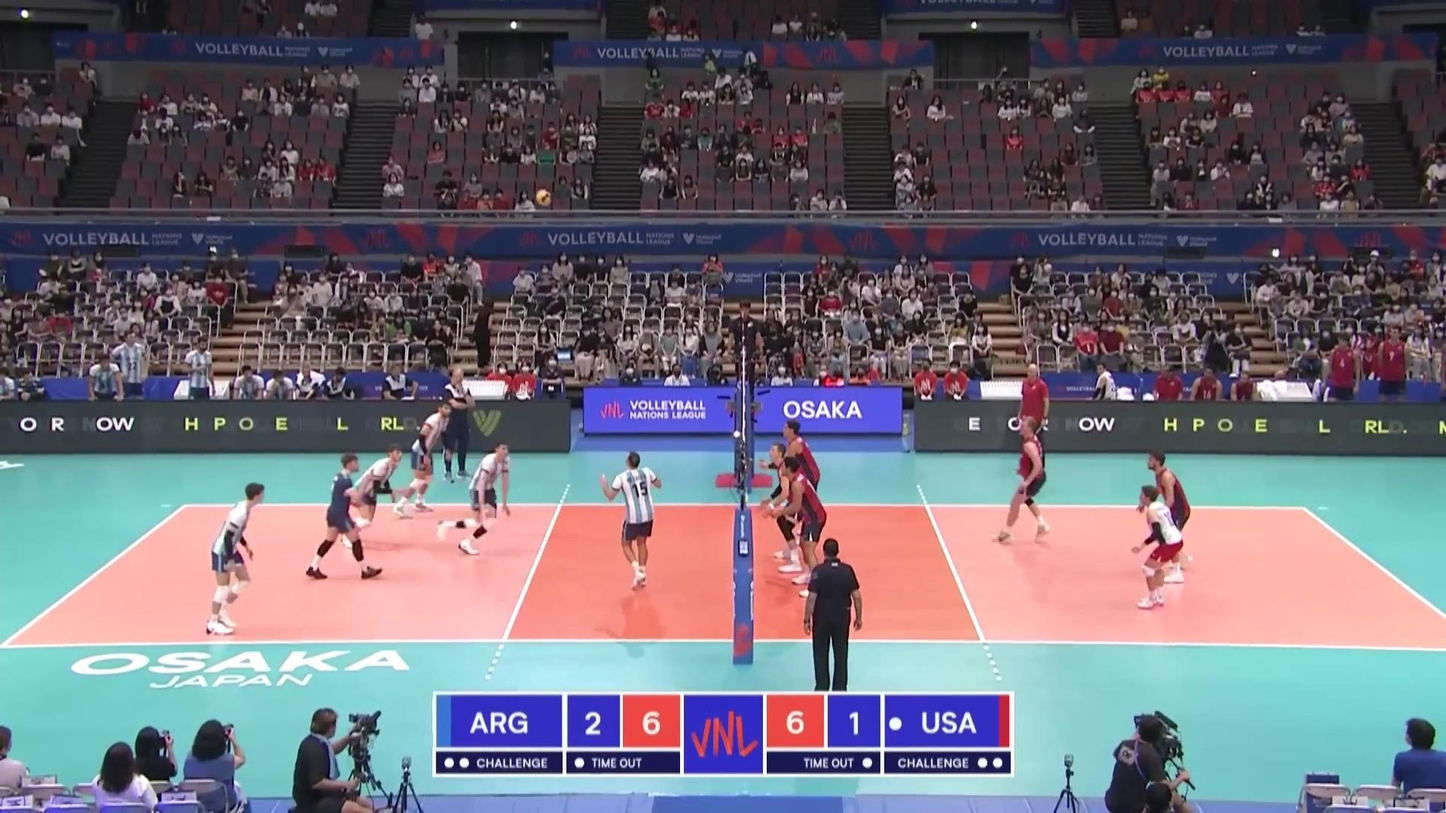player: (307, 455, 381, 579), (207, 483, 263, 637), (437, 441, 510, 556), (605, 453, 660, 591), (995, 417, 1054, 542), (1141, 450, 1194, 585), (778, 457, 826, 598), (395, 403, 453, 519), (344, 444, 404, 549), (773, 419, 822, 547), (1135, 486, 1184, 611), (764, 444, 804, 573)
refree: (799, 537, 865, 691), (723, 299, 763, 418)
